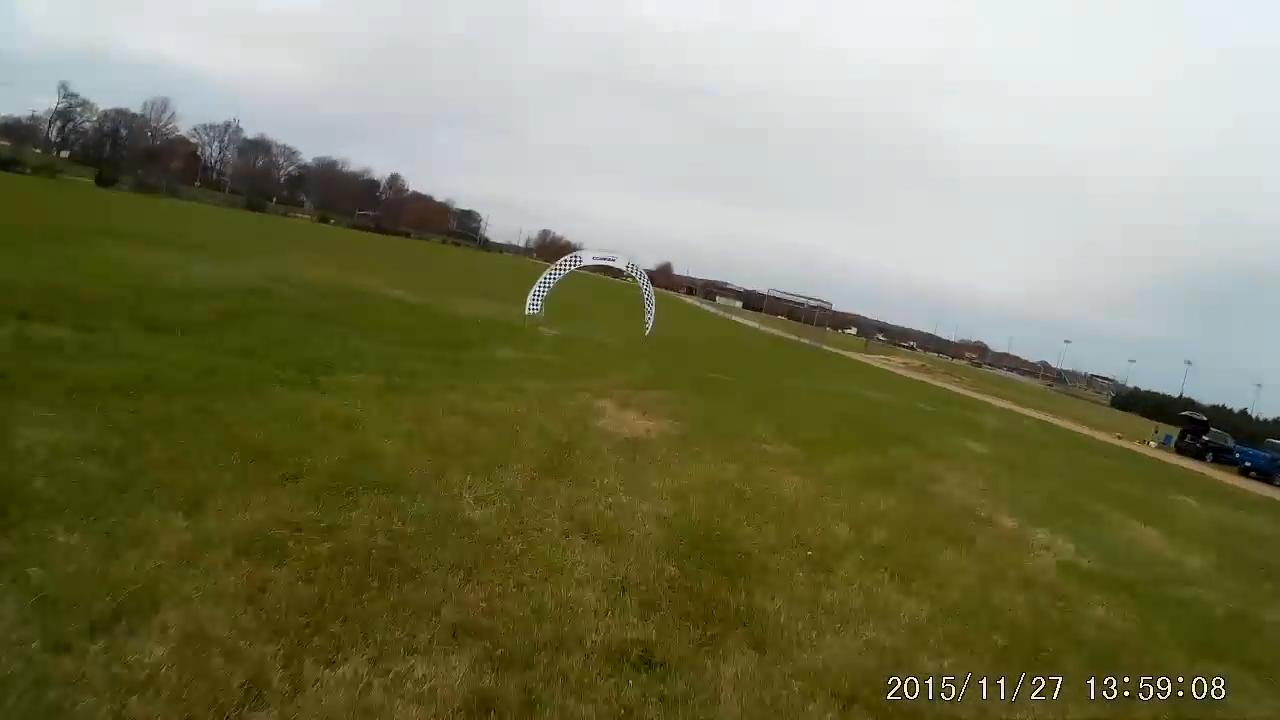gate: (525, 248, 656, 337)
